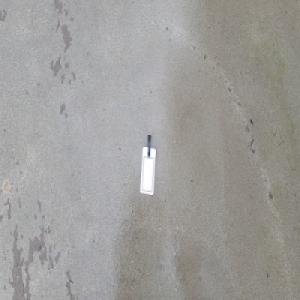LuggageTag: (139, 133, 157, 197)
